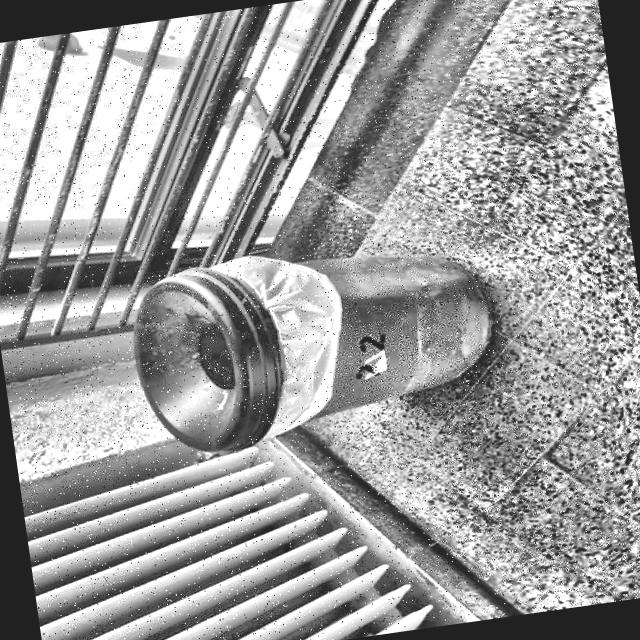Dustbin: (76, 208, 531, 484)
